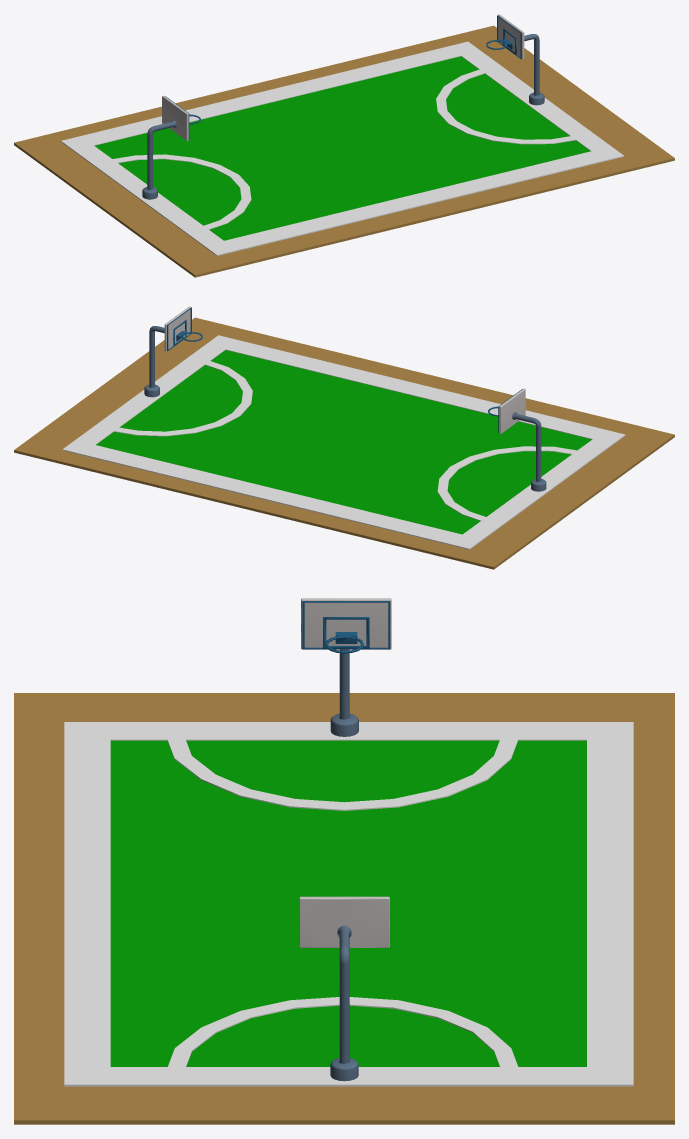
The model's file is BasketballField.fbx.
3 renders of one model, top to bottom at view 1: azimuth 30°, elevation 25°; view 2: azimuth 150°, elevation 25°; view 3: azimuth 270°, elevation 25°, orthographic. The views are drawn at different scales.
Parts seen in each view (by area): view 1: BasketballCoart; view 2: BasketballCoart; view 3: BasketballCoart.
Boxes of the visible parts, x1=… form: BasketballCoart: x1=14, y1=14, x2=674, y2=277; BasketballCoart: x1=14, y1=306, x2=674, y2=569; BasketballCoart: x1=14, y1=598, x2=674, y2=1124.
Size of the model in its own units: 971 by 207 by 634.
